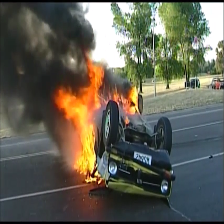fire_h: (53, 51, 108, 174), (121, 86, 140, 115)
fire_l: (108, 84, 121, 105), (85, 171, 103, 184), (124, 116, 130, 124)
